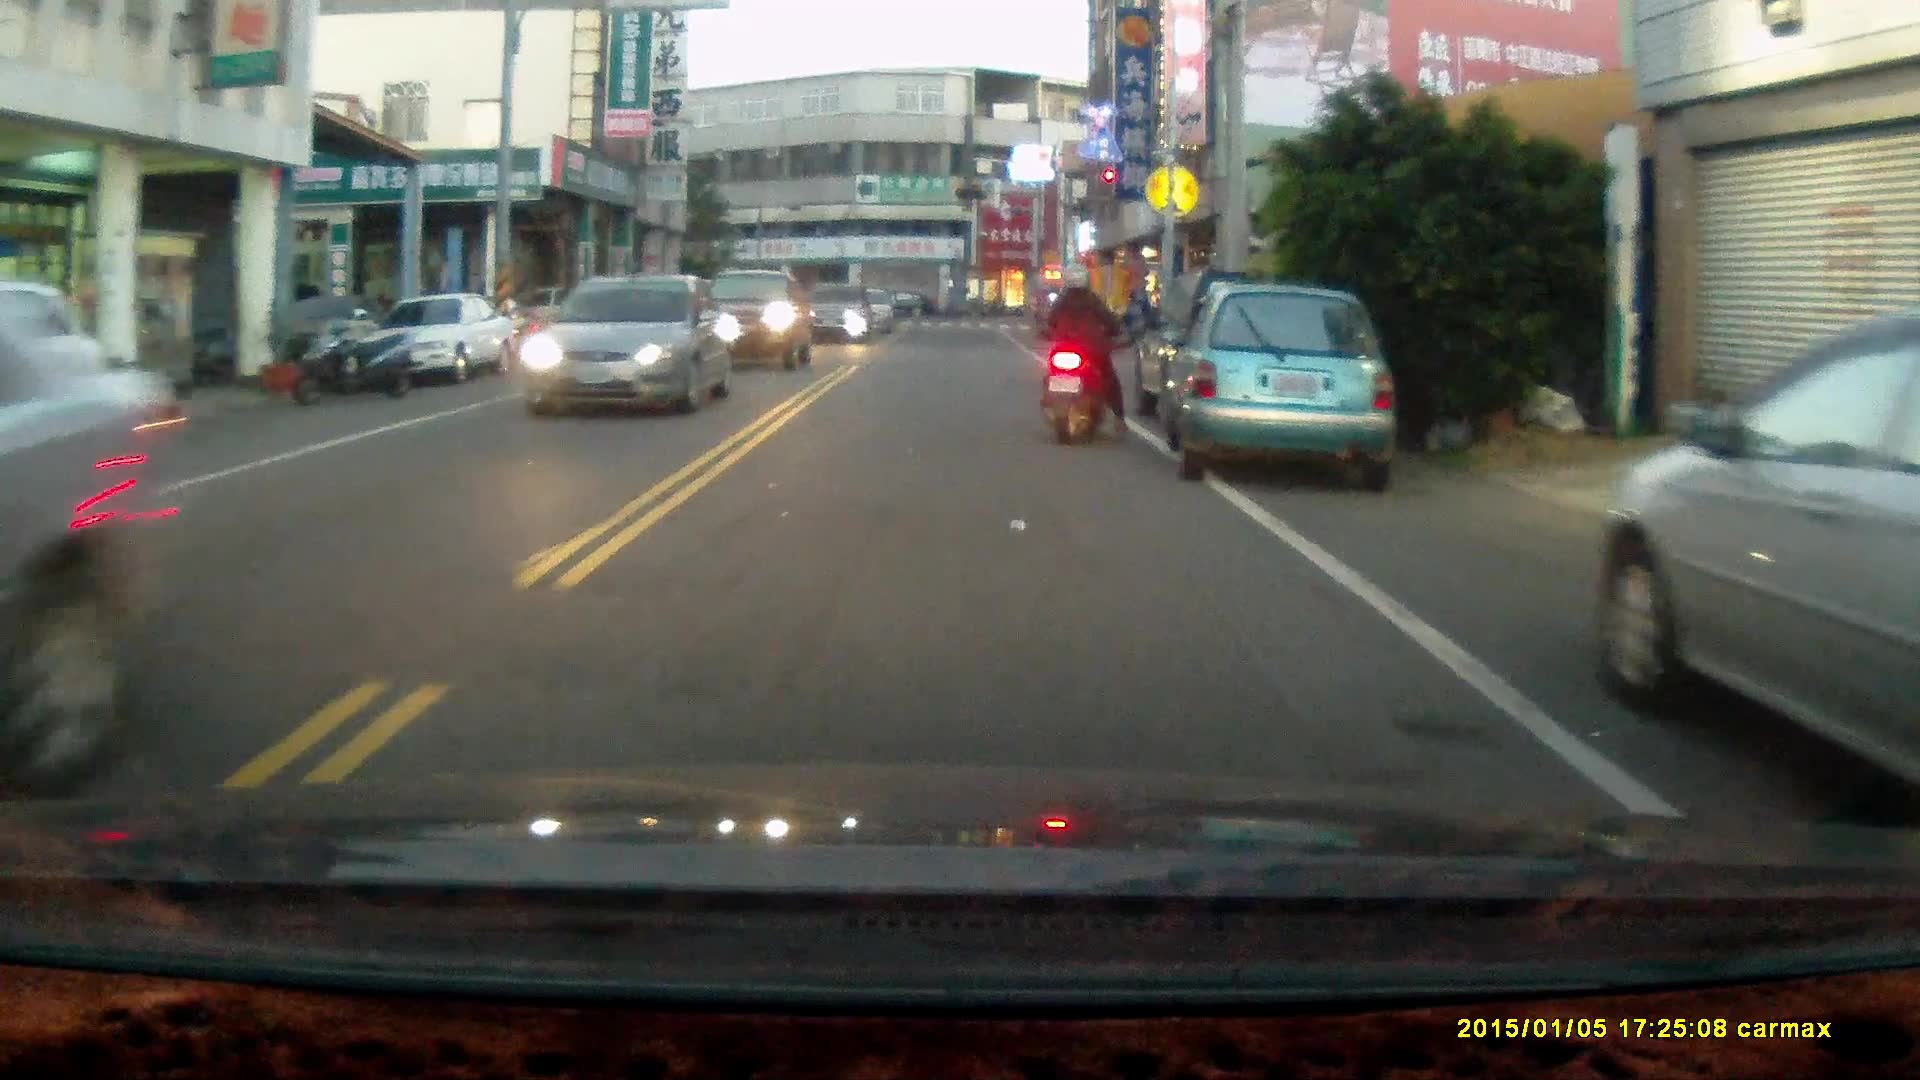rider: (1034, 265, 1128, 445)
vehicle: (1608, 342, 1920, 802), (1165, 281, 1402, 493), (524, 275, 734, 419), (365, 293, 524, 388), (690, 271, 822, 376)
